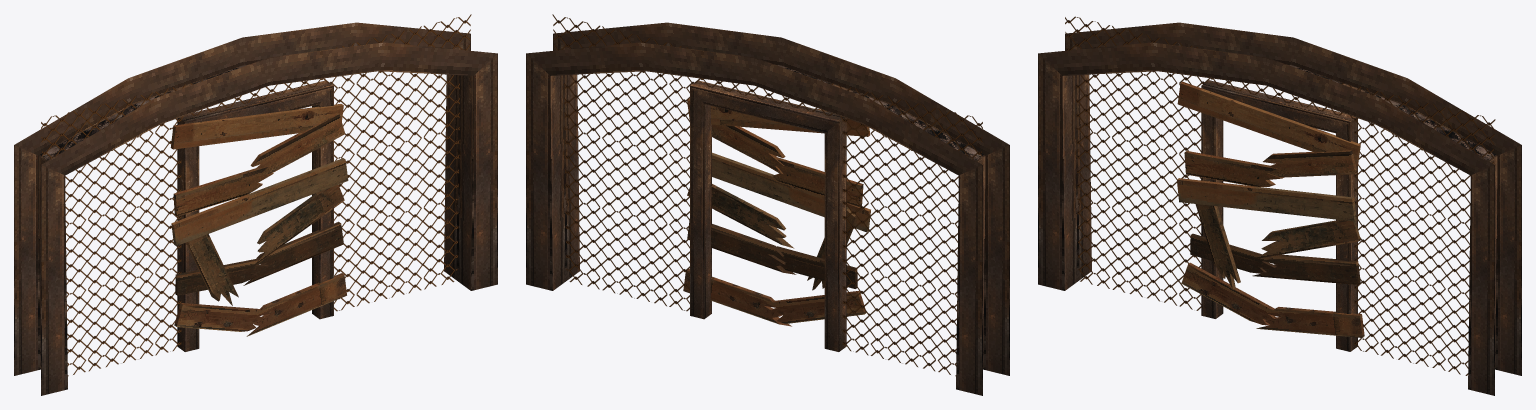
File: door_open.gltf
The picture shows the model from 3 angles, left to right: view 1: azimuth 30°, elevation 25°; view 2: azimuth 150°, elevation 25°; view 3: azimuth 330°, elevation 25°; orthographic projection.
Visible parts, largest first — view 1: door_frame, door_frame.001, door_planks.007, door_planks.011, door_planks.010, door_planks.005, door_planks.002, door_planks.008, door_planks.003, door_planks.006, door_planks.004, door_planks.009 (+2 smaller); view 2: door_frame, door_frame.001, door_planks.007, door_planks.006, door_planks.010, door_planks.011, door_planks.004, door_planks.008, door_planks.002, door_planks.005, door_planks, door_planks.009 (+2 smaller); view 3: door_frame, door_frame.001, door_planks.007, door_planks.010, door_planks.011, door_planks.006, door_planks.003, door_planks.004, door_planks.002, door_planks.005, door_planks.008, door_planks.009 (+2 smaller).
Boxes of the visible parts, x1,y1,x2,y2 form: door_frame: [14, 14, 497, 395]; door_frame.001: [177, 80, 333, 351]; door_planks.007: [254, 184, 344, 265]; door_planks.011: [245, 158, 348, 219]; door_planks.010: [246, 273, 346, 336]; door_planks.005: [171, 188, 269, 245]; door_planks.002: [173, 166, 273, 216]; door_planks.008: [250, 113, 345, 174]; door_planks.003: [170, 114, 267, 149]; door_planks.006: [243, 221, 343, 285]; door_planks.004: [174, 303, 263, 331]; door_planks.009: [241, 104, 343, 140]; door_frame: [526, 14, 1009, 395]; door_frame.001: [690, 80, 846, 351]; door_planks.007: [687, 184, 794, 248]; door_planks.006: [687, 218, 796, 274]; door_planks.010: [683, 268, 791, 326]; door_planks.011: [712, 152, 786, 203]; door_planks.004: [765, 291, 866, 323]; door_planks.008: [712, 124, 785, 173]; door_planks.002: [769, 157, 863, 207]; door_planks.005: [770, 183, 870, 232]; door_planks: [774, 246, 857, 288]; door_planks.009: [687, 98, 785, 130]; door_frame: [1038, 16, 1521, 395]; door_frame.001: [1201, 80, 1357, 351]; door_planks.007: [1254, 220, 1360, 259]; door_planks.010: [1256, 307, 1364, 337]; door_planks.011: [1249, 188, 1356, 221]; door_planks.006: [1252, 254, 1360, 284]; door_planks.003: [1177, 81, 1278, 129]; door_planks.004: [1181, 262, 1276, 325]; door_planks.002: [1184, 151, 1283, 186]; door_planks.005: [1177, 178, 1274, 209]; door_planks.008: [1263, 150, 1357, 177]; door_planks.009: [1249, 115, 1360, 166].
Size of what is drawn, in the model's own units: 5.04 by 2.99 by 0.5183.
Materials: 3 (3 with a texture image).
